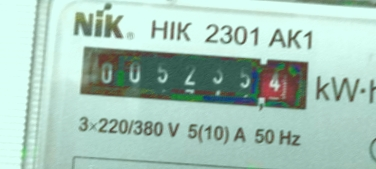0: (98, 59, 115, 86), (127, 59, 142, 85)
2: (182, 61, 197, 87)
3: (210, 60, 225, 86)
4: (266, 67, 283, 94)
5: (237, 63, 253, 91), (154, 59, 170, 86)
screen: (70, 37, 321, 119)
